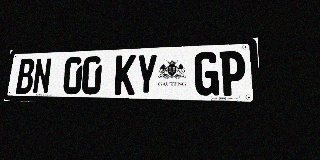0: (81, 56, 102, 95), (62, 57, 83, 94)
B: (16, 58, 35, 94)
G: (194, 52, 219, 96)
K: (114, 55, 136, 95)
N: (32, 58, 52, 94)
P: (220, 51, 246, 96)
Y: (135, 54, 158, 95)
